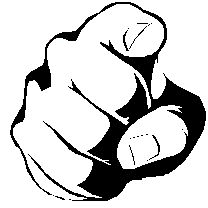hand: (1, 1, 207, 204)
